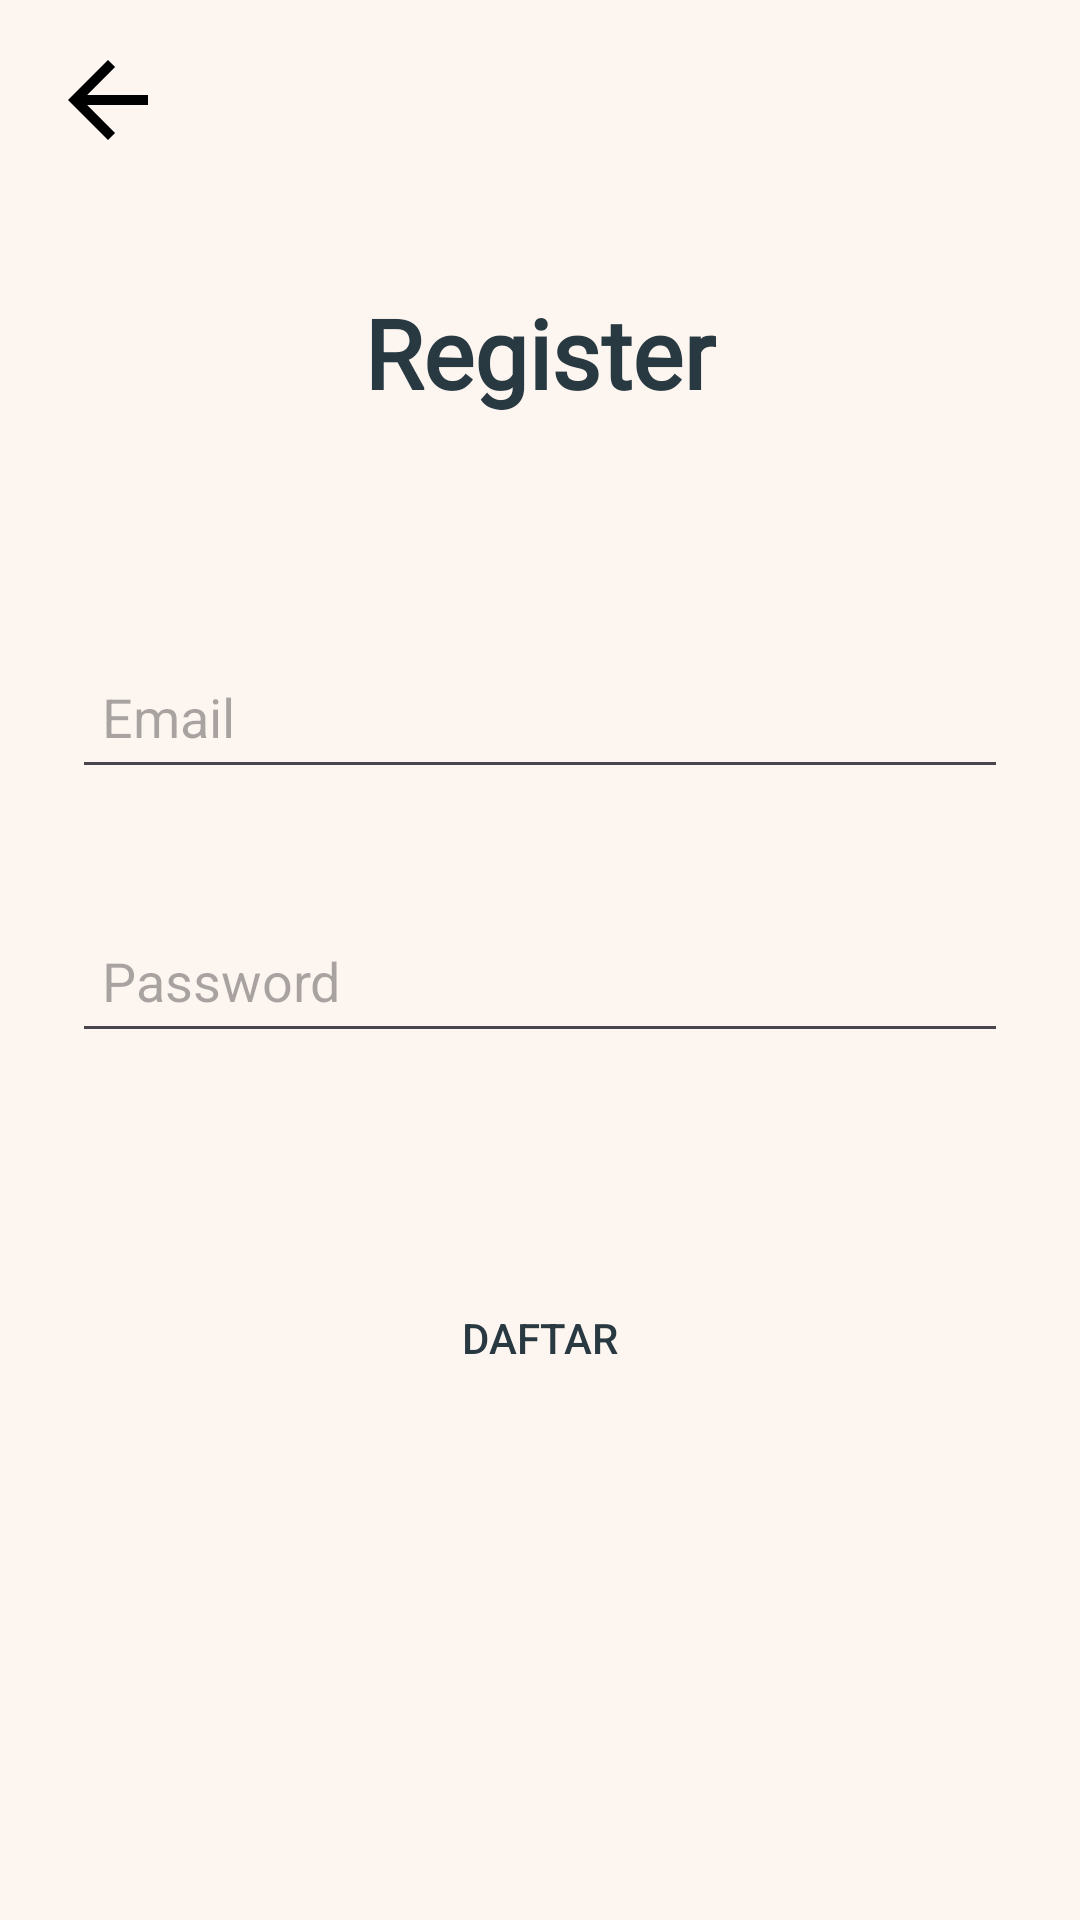

Where icons sit on this 1080 x 1920 app screen, as (x1, y1, x2, y2):
arrow back: (68, 60, 148, 140)
